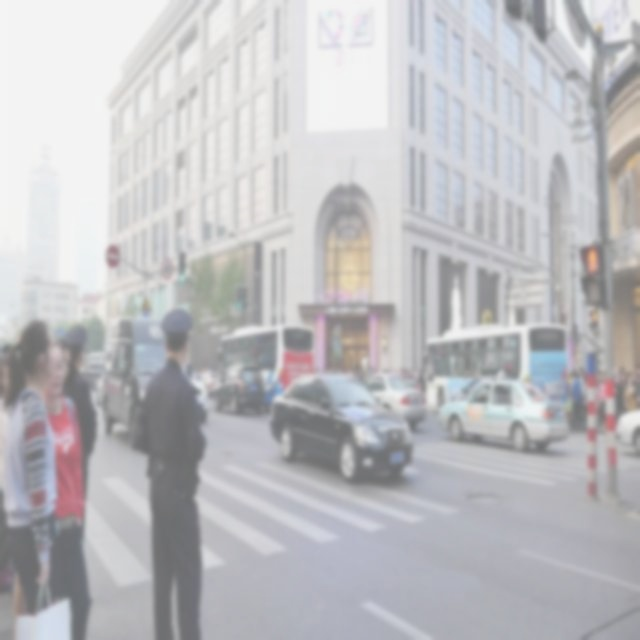pessoa: (135, 301, 213, 639), (1, 318, 59, 618), (41, 337, 94, 639), (46, 338, 94, 638), (0, 349, 48, 639), (61, 320, 100, 546), (314, 356, 430, 411), (448, 270, 464, 334), (569, 368, 583, 431), (613, 365, 622, 427), (622, 373, 636, 412), (598, 371, 607, 428), (580, 372, 588, 435), (596, 370, 604, 428), (632, 359, 640, 412), (577, 364, 587, 406), (620, 370, 628, 414), (1, 338, 16, 354), (618, 364, 627, 374)
